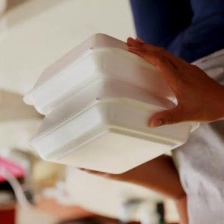foam_box: (24, 69, 205, 178), (18, 30, 205, 126)
